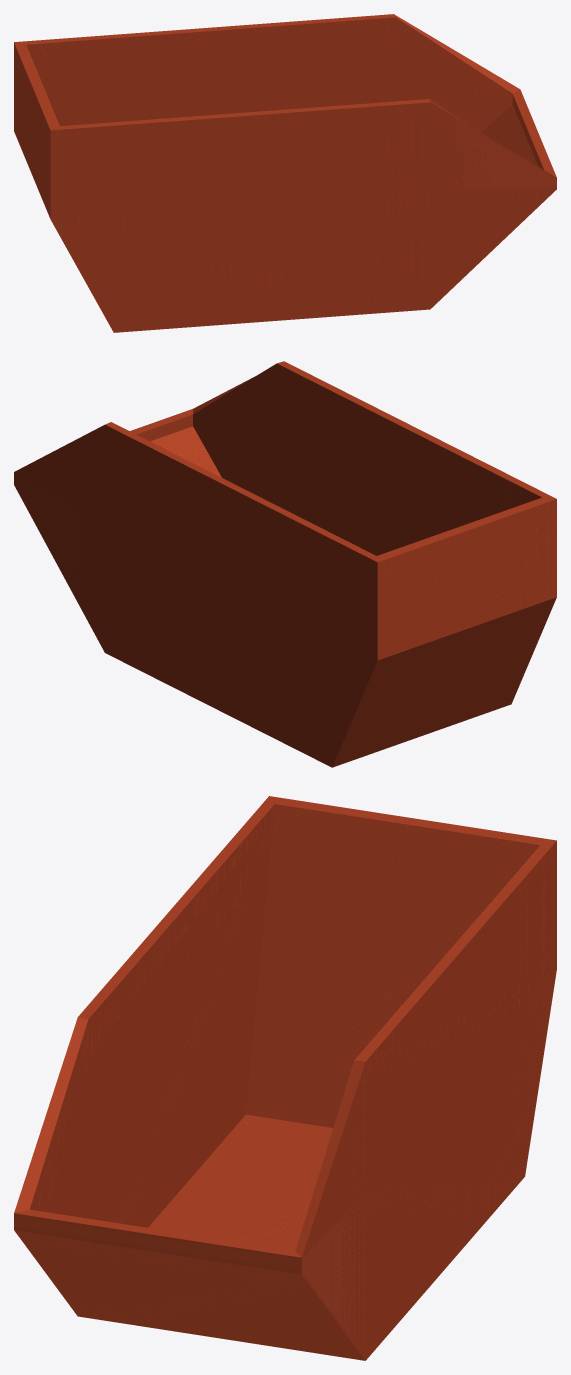
Rendered from rubble-skip.glb.
The picture shows the model from 3 angles, top to bottom: view 1: azimuth 30°, elevation 25°; view 2: azimuth 150°, elevation 25°; view 3: azimuth 270°, elevation 25°; orthographic projection. The views are drawn at different scales.
Parts seen in each view (by area): view 1: Container; view 2: Container; view 3: Container.
Part boxes in pixels (bbox=[...]): Container: bbox=[14, 14, 556, 332]; Container: bbox=[14, 361, 556, 767]; Container: bbox=[14, 796, 556, 1360].
Bounding box in the file's own units: 4.32 × 1.78 × 2.92.
1 material, 1 textured.
